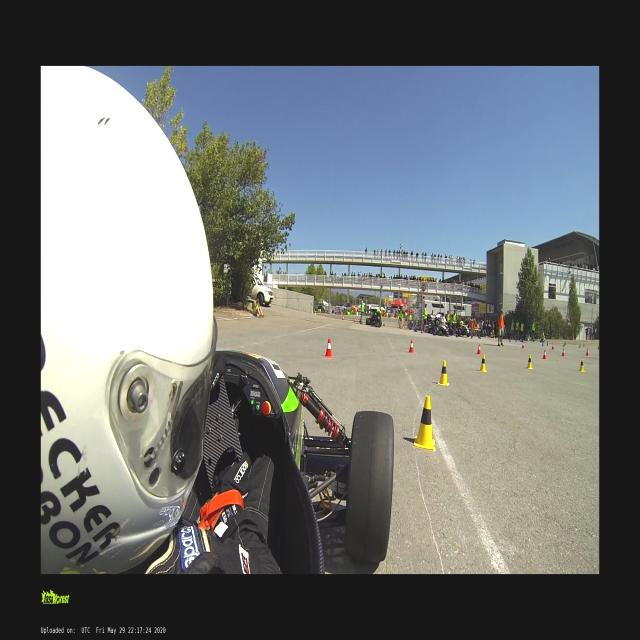orange_cone: (326, 338, 332, 358), (408, 340, 414, 352), (477, 344, 481, 356), (543, 350, 546, 360), (562, 348, 565, 356), (586, 348, 588, 356), (552, 342, 554, 350), (325, 312, 327, 318), (522, 342, 524, 348), (342, 315, 344, 321), (354, 318, 356, 322)
yellow_cone: (412, 396, 436, 450), (437, 359, 449, 385), (481, 354, 486, 372), (579, 358, 585, 372), (527, 354, 532, 368)
